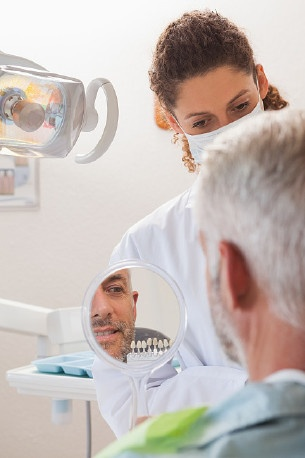Mask: (181, 88, 274, 181)
